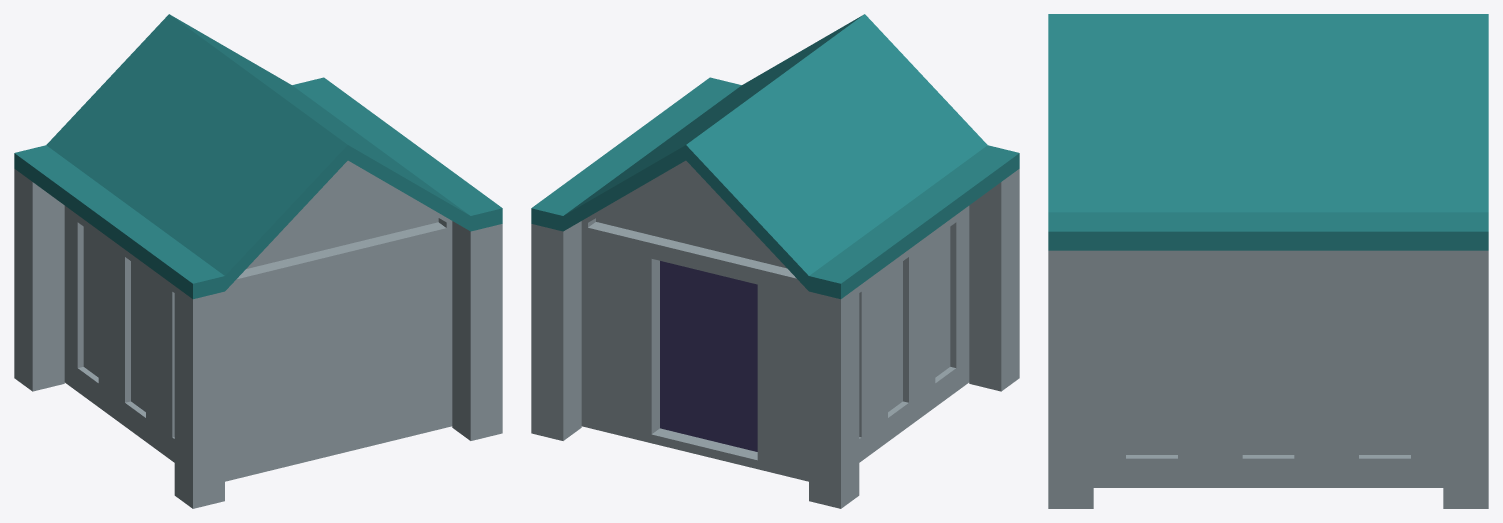
Rendered from Maus.obj.
3 views of the same model, side by side, from view 1: azimuth 30°, elevation 25°; view 2: azimuth 150°, elevation 25°; view 3: azimuth 270°, elevation 25° (orthographic). The views are drawn at different scales.
Visible parts, largest first — view 1: Maus_Cube; view 2: Maus_Cube; view 3: Maus_Cube.
Boxes of the visible parts, bbox=[...] form: Maus_Cube: bbox=[14, 14, 502, 508]; Maus_Cube: bbox=[531, 14, 1019, 508]; Maus_Cube: bbox=[1048, 14, 1488, 508].
Size of the model in its own units: 10.41 by 10.48 by 10.41.
